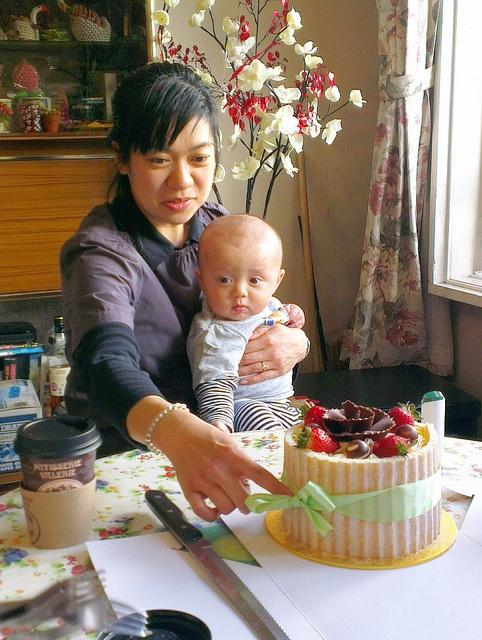strawberry: (292, 425, 340, 456), (387, 401, 425, 434), (371, 436, 418, 458), (304, 406, 330, 432)
